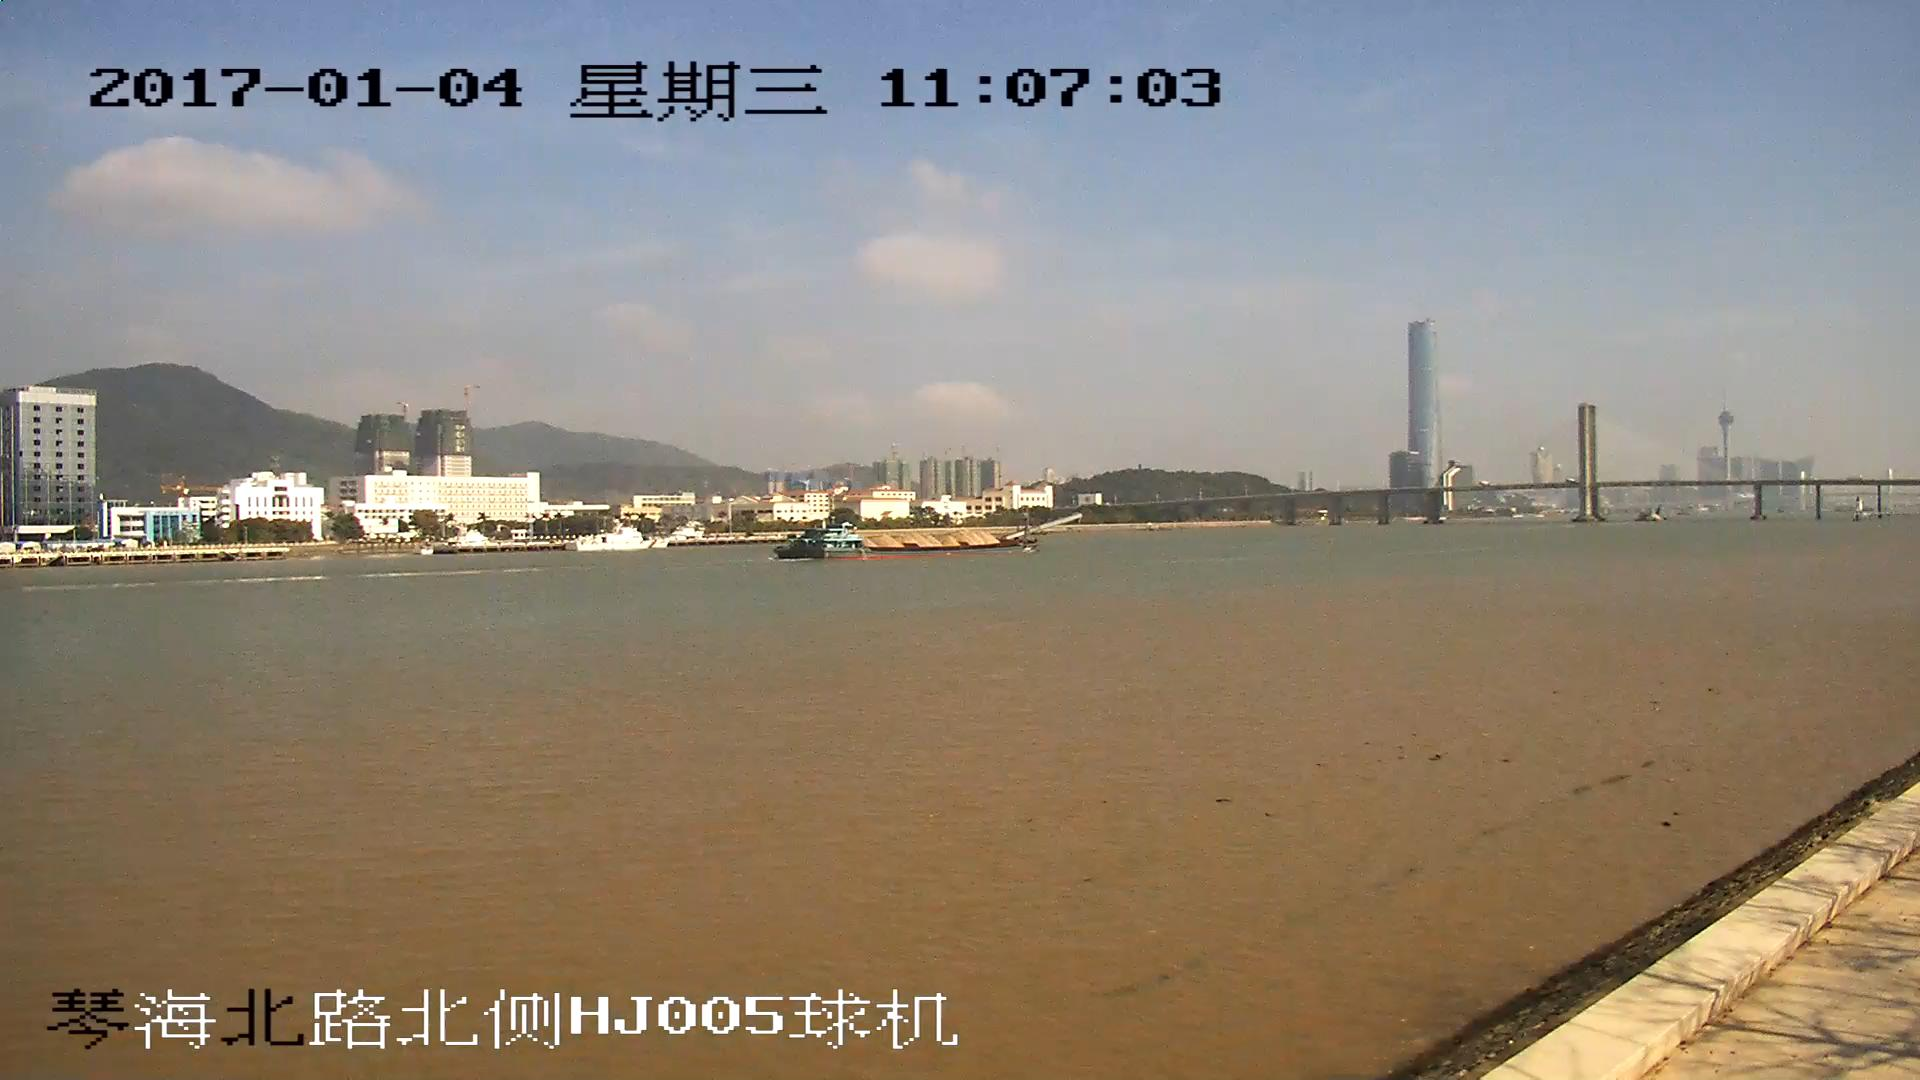ore carrier: (777, 514, 1083, 560)
